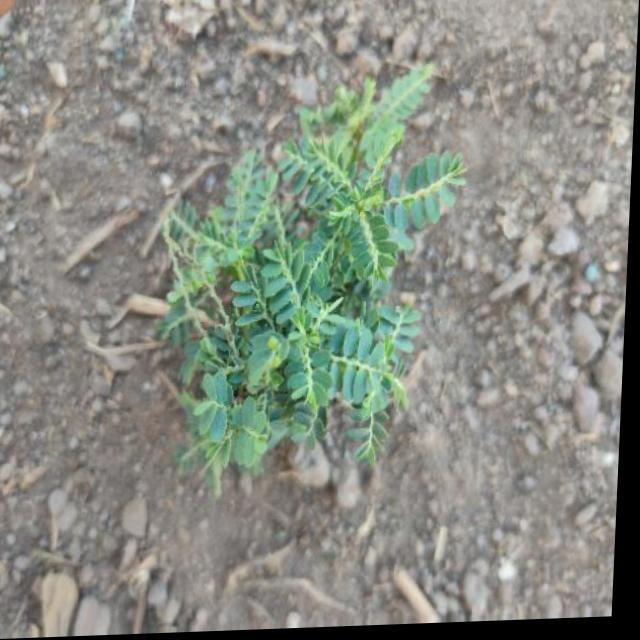weed: (151, 87, 467, 485)
